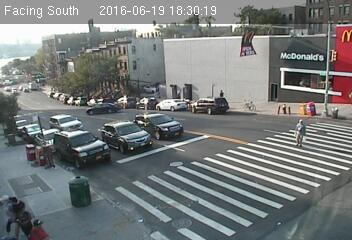neg: (2, 129, 16, 148), (46, 62, 58, 78), (329, 105, 340, 120), (116, 78, 126, 91)
pos: (287, 116, 311, 147), (6, 210, 27, 237), (6, 193, 24, 217), (31, 217, 47, 238), (1, 195, 11, 211), (218, 85, 225, 95)
